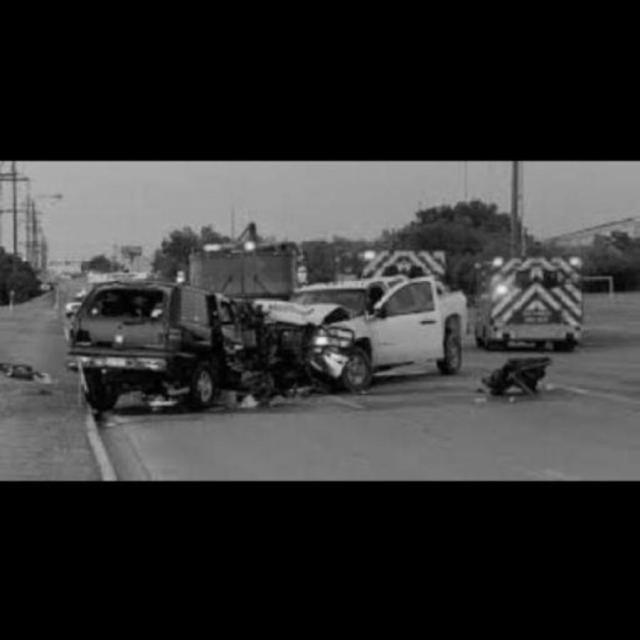accident: (74, 277, 468, 409)
vehicle: (481, 246, 599, 348)
